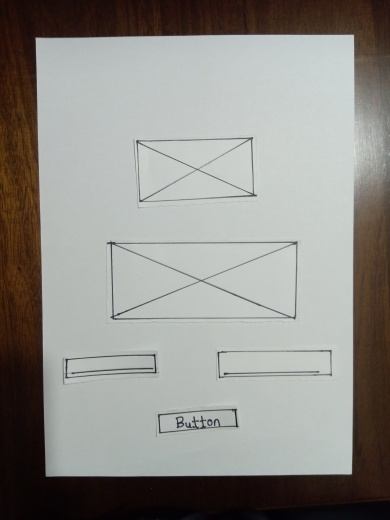button: (160, 408, 237, 433)
img: (110, 242, 297, 316), (136, 139, 258, 200)
text: (217, 349, 332, 378), (64, 356, 158, 375)
